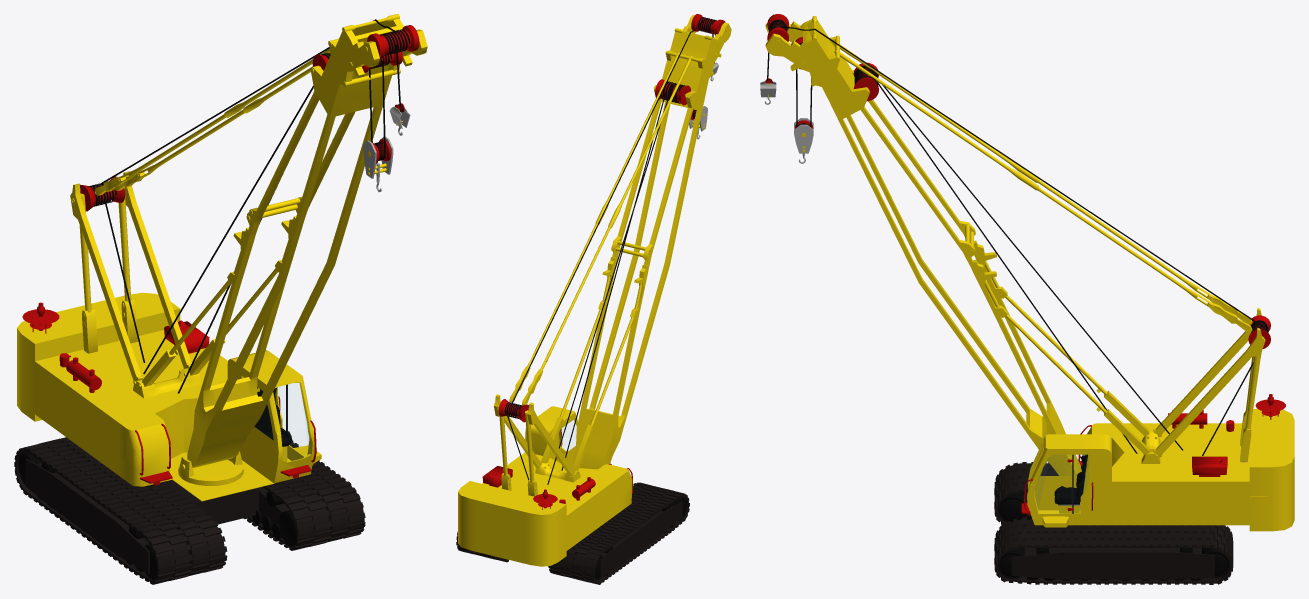
The model's file is crane.FBX.
3 renders of one model, left to right at view 1: azimuth 30°, elevation 25°; view 2: azimuth 150°, elevation 25°; view 3: azimuth 270°, elevation 25°, orthographic. The views are drawn at different scales.
Parts seen in each view (by area): view 1: Boom, Housing, Chain, Handles, HookBig; view 2: Boom, Housing, Chain, Handles; view 3: Boom, Housing, Chain, Handles, HookBig.
Part boxes in pixels (x1,y1,x2,y2): Boom: [70, 14, 427, 485]; Housing: [17, 292, 321, 501]; Chain: [14, 437, 365, 584]; Handles: [22, 302, 316, 485]; HookBig: [363, 61, 393, 192]; Boom: [494, 14, 731, 496]; Housing: [458, 406, 632, 566]; Chain: [456, 482, 689, 584]; Handles: [482, 429, 633, 509]; Boom: [765, 14, 1270, 475]; Housing: [1027, 409, 1294, 531]; Chain: [994, 462, 1233, 584]; Handles: [1021, 394, 1285, 515]; HookBig: [794, 69, 813, 163].
Size of the model in its own units: 283 by 831 by 771.
